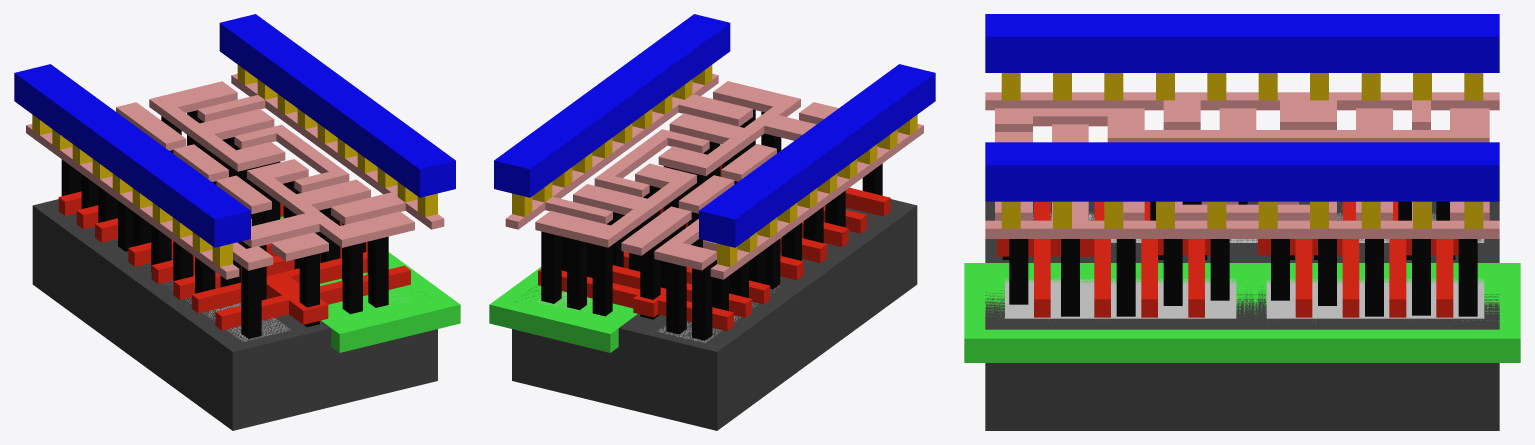
File: sky130_fd_sc_hd__o31ai_2.obj
3 renders of one model, left to right at view 1: azimuth 30°, elevation 25°; view 2: azimuth 150°, elevation 25°; view 3: azimuth 270°, elevation 25°, orthographic. The views are drawn at different scales.
Parts seen in each view (by area): view 1: subs, metal1, li, licon, poly, nwell, mcon, diff; view 2: subs, metal1, li, licon, poly, nwell, mcon; view 3: metal1, subs, li, nwell, licon, poly, mcon, tap.
Boxes of the visible parts, x1,y1,x2,y2 form: subs: (32, 199, 437, 430); metal1: (14, 14, 455, 247); li: (26, 73, 444, 279); licon: (61, 110, 388, 338); poly: (58, 183, 410, 330); nwell: (280, 216, 460, 352); mcon: (32, 65, 437, 266); diff: (165, 275, 290, 341); subs: (512, 199, 917, 430); metal1: (494, 14, 935, 247); li: (505, 73, 923, 279); licon: (541, 109, 882, 340); poly: (538, 165, 890, 331); nwell: (489, 267, 637, 352); mcon: (512, 65, 917, 266); metal1: (985, 14, 1499, 201); subs: (985, 201, 1499, 430); li: (985, 92, 1499, 238); nwell: (964, 263, 1520, 362); licon: (1002, 201, 1477, 316); poly: (997, 201, 1458, 317); mcon: (1001, 73, 1483, 228); tap: (1005, 278, 1484, 318).
Size of the model in its own units: 3.2 by 2.74 by 4.98.
